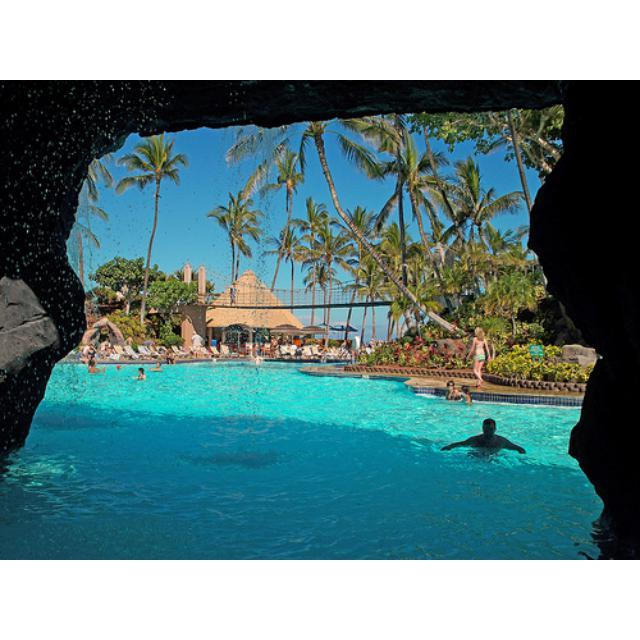human: (446, 419, 527, 462), (445, 380, 461, 400), (87, 359, 107, 375), (461, 381, 472, 405), (130, 369, 146, 384)
